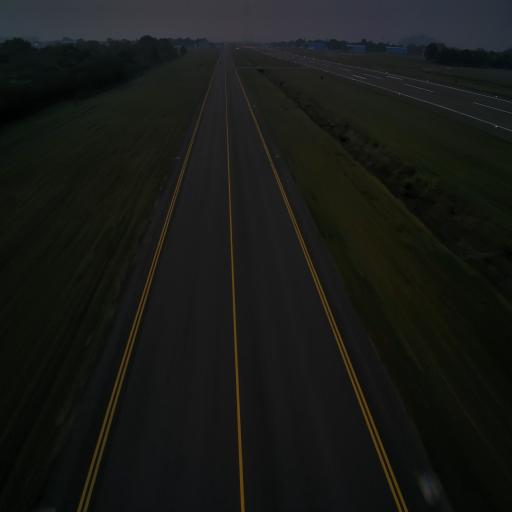on: (421, 471, 433, 496)
